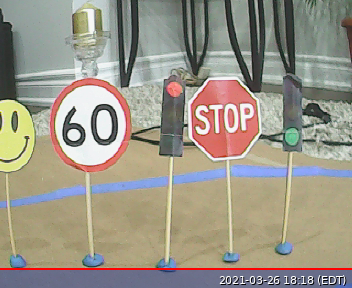Green Traffic Light: (280, 73, 304, 153)
Red Traffic Light: (157, 74, 188, 158)
Speed Limit 60: (49, 78, 133, 173)
Stop Sign: (187, 76, 264, 161)
